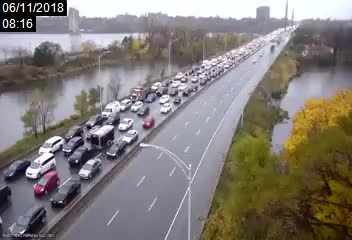congestion: (1, 129, 139, 237), (72, 96, 173, 139), (134, 75, 201, 105), (181, 57, 229, 80), (215, 48, 249, 62)
personal_car: (10, 205, 47, 235), (52, 179, 81, 209), (26, 154, 57, 180), (31, 172, 61, 195), (4, 158, 31, 179), (77, 159, 103, 179), (39, 135, 64, 154), (69, 146, 92, 166), (102, 101, 121, 119), (63, 137, 83, 154), (107, 141, 124, 158), (66, 125, 83, 142), (122, 128, 139, 144), (117, 116, 134, 131), (86, 113, 102, 128), (105, 112, 119, 126), (130, 99, 143, 112), (142, 115, 154, 129), (119, 98, 131, 111), (150, 80, 162, 92), (160, 103, 172, 114), (189, 81, 199, 93), (145, 93, 157, 103), (138, 105, 148, 117), (181, 86, 192, 96), (210, 66, 219, 77), (159, 94, 169, 103), (214, 63, 224, 71), (199, 75, 207, 85), (168, 87, 178, 95), (184, 67, 192, 76), (173, 95, 181, 104), (171, 80, 181, 87), (200, 59, 208, 67), (175, 71, 183, 79), (161, 78, 168, 87), (179, 76, 187, 83), (191, 75, 198, 82), (205, 64, 212, 70)
truck: (131, 85, 152, 102)
